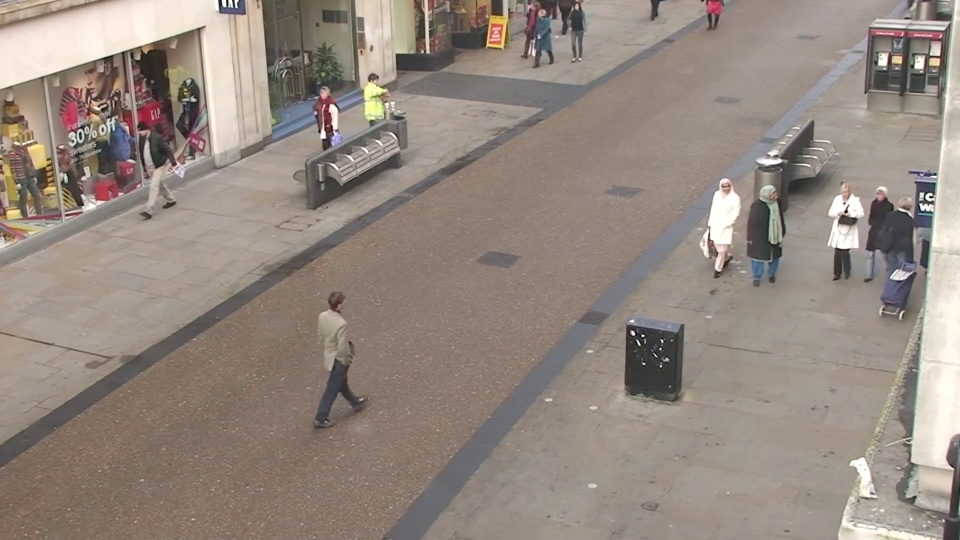pedestrian: (329, 280, 379, 419), (877, 188, 928, 306), (849, 182, 896, 296), (817, 181, 861, 295), (745, 180, 785, 294), (702, 173, 740, 285), (121, 121, 162, 216), (307, 83, 338, 169), (359, 69, 389, 151), (526, 5, 549, 70), (518, 0, 541, 63), (564, 1, 586, 66)
